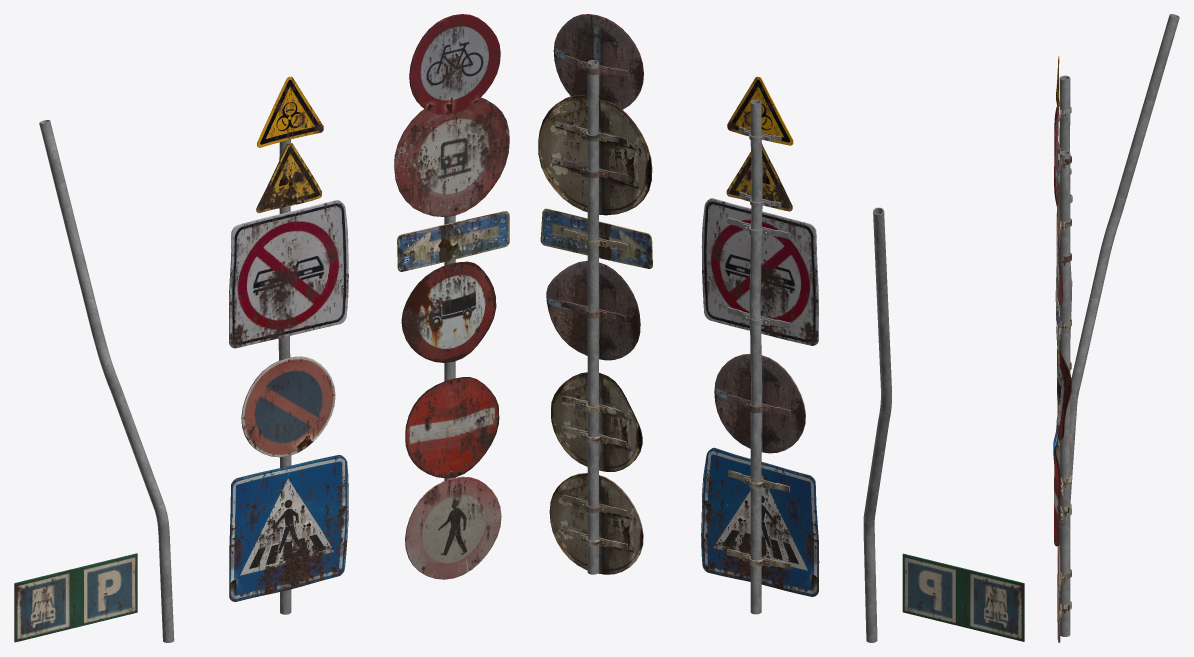
The picture shows the model from 3 angles, left to right: view 1: azimuth 30°, elevation 25°; view 2: azimuth 150°, elevation 25°; view 3: azimuth 270°, elevation 25°; orthographic projection. The views are drawn at different scales.
Parts seen in each view (by area): view 1: StreetSign_NoPassing_11, StreetSign_CrossWalk_9, StreetSign_CarFront_4, StreetSign_Pedestrian_5, StreetSign_Parking_Car_1, StreetSign_NoEntry_3, StreetSign_Truck_2, StreetSign_NoStopping_8, StreetSign_Bicycle_6, StreetSign_Pole_03_15, StreetSign_Left_7, StreetSign_Toxic_10 (+2 smaller); view 2: StreetSign_CrossWalk_9, StreetSign_NoPassing_11, StreetSign_CarFront_4, StreetSign_Parking_Car_1, StreetSign_Pedestrian_5, StreetSign_Truck_2, StreetSign_NoStopping_8, StreetSign_Bicycle_6, StreetSign_NoEntry_3, StreetSign_Pole_02_14, StreetSign_Pole_01_13, StreetSign_Pole_03_15 (+3 smaller); view 3: StreetSign_Pole_03_15, StreetSign_Pole_01_13, StreetSign_Pole_02_14, StreetSign_Truck_2, StreetSign_NoEntry_3, StreetSign_CarFront_4, StreetSign_Bicycle_6, StreetSign_Pedestrian_5, StreetSign_Left_7, StreetSign_NoPassing_11, StreetSign_Toxic_10.
Boxes of the visible parts, x1,y1,x2,y2 form: StreetSign_NoPassing_11: (229, 200, 348, 348); StreetSign_CrossWalk_9: (229, 455, 348, 601); StreetSign_CarFront_4: (394, 97, 509, 216); StreetSign_Pedestrian_5: (405, 476, 501, 579); StreetSign_Parking_Car_1: (14, 553, 137, 642); StreetSign_NoEntry_3: (405, 377, 499, 478); StreetSign_Truck_2: (401, 261, 496, 362); StreetSign_NoStopping_8: (241, 356, 335, 457); StreetSign_Bicycle_6: (409, 14, 500, 114); StreetSign_Pole_03_15: (39, 120, 174, 642); StreetSign_Left_7: (397, 211, 509, 271); StreetSign_Toxic_10: (257, 76, 323, 147); StreetSign_CrossWalk_9: (701, 447, 819, 596); StreetSign_NoPassing_11: (701, 198, 818, 345); StreetSign_CarFront_4: (538, 94, 652, 215); StreetSign_Parking_Car_1: (902, 553, 1024, 641); StreetSign_Pedestrian_5: (549, 473, 643, 574); StreetSign_Truck_2: (546, 261, 640, 360); StreetSign_NoStopping_8: (714, 353, 805, 453); StreetSign_Bicycle_6: (553, 14, 643, 109); StreetSign_NoEntry_3: (551, 372, 642, 471); StreetSign_Pole_02_14: (749, 99, 762, 614); StreetSign_Pole_01_13: (587, 60, 598, 574); StreetSign_Pole_03_15: (863, 207, 891, 642); StreetSign_Pole_03_15: (1070, 14, 1179, 503); StreetSign_Pole_01_13: (1059, 150, 1070, 636); StreetSign_Pole_02_14: (1059, 75, 1071, 338); StreetSign_Truck_2: (1057, 340, 1071, 439); StreetSign_NoEntry_3: (1054, 445, 1071, 546); StreetSign_CarFront_4: (1057, 182, 1071, 305); StreetSign_Bicycle_6: (1054, 106, 1071, 206); StreetSign_Pedestrian_5: (1057, 544, 1071, 642); StreetSign_Left_7: (1056, 295, 1071, 364); StreetSign_NoPassing_11: (1055, 164, 1072, 321); StreetSign_Toxic_10: (1056, 56, 1071, 121).
Bounding box in the file's own units: 3.01 × 3.28 × 0.7141.
1 material, 1 textured.
